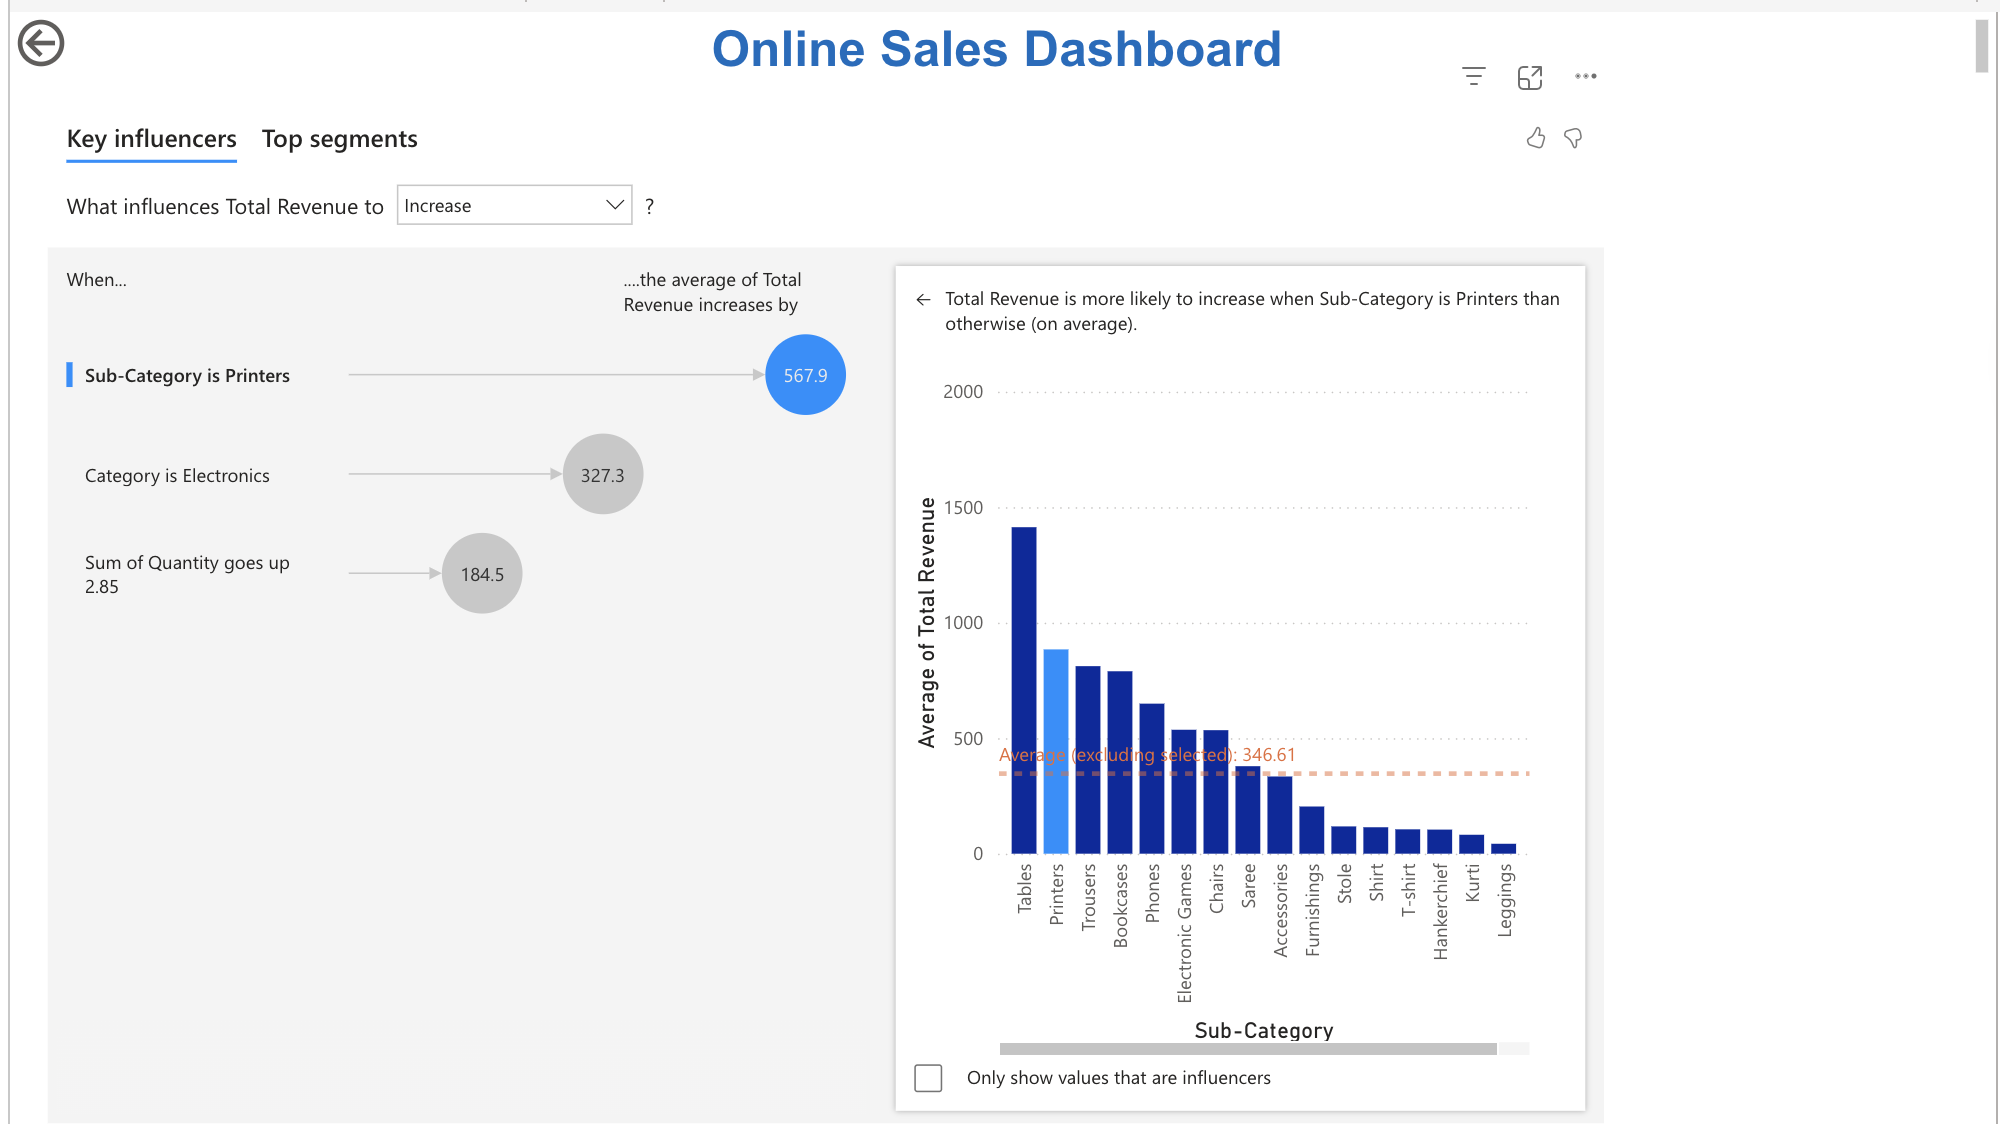

Layout of this report page (visuals, bound fields, positions):
{"tool":"powerbi","page":{"name":"Key Influencer","canvas":[1280,720],"ordinal":2},"visuals":[{"type":"keyDriversVisual","fields":{"ExplainBy":["Details.Category","Details.Sub-Category","Sum(Details.Quantity)","Details.Order ID","Orders.City","Orders.Order Date","Orders.State"],"Target":["Details.Total Revenue"]},"box":[19.7,56.1,1013.1,664.3],"z":0},{"type":"textbox","box":[0,0,1280,45.4],"z":1000},{"type":"actionButton","box":[0,0,100,40],"z":2000}]}

Visuals, with their boxes on the page's 1280x720 design canvas (x1, y1, x2, y2). These are canvas units, not pixel positions in the 2000x1124 screenshot, which may show the page scaled, cropped or inside an application window:
keyDriversVisual - Details.Category x Details.Sub-Category: {"left": 20, "top": 56, "right": 1033, "bottom": 720}
textbox: {"left": 0, "top": 0, "right": 1280, "bottom": 45}
actionButton: {"left": 0, "top": 0, "right": 100, "bottom": 40}
